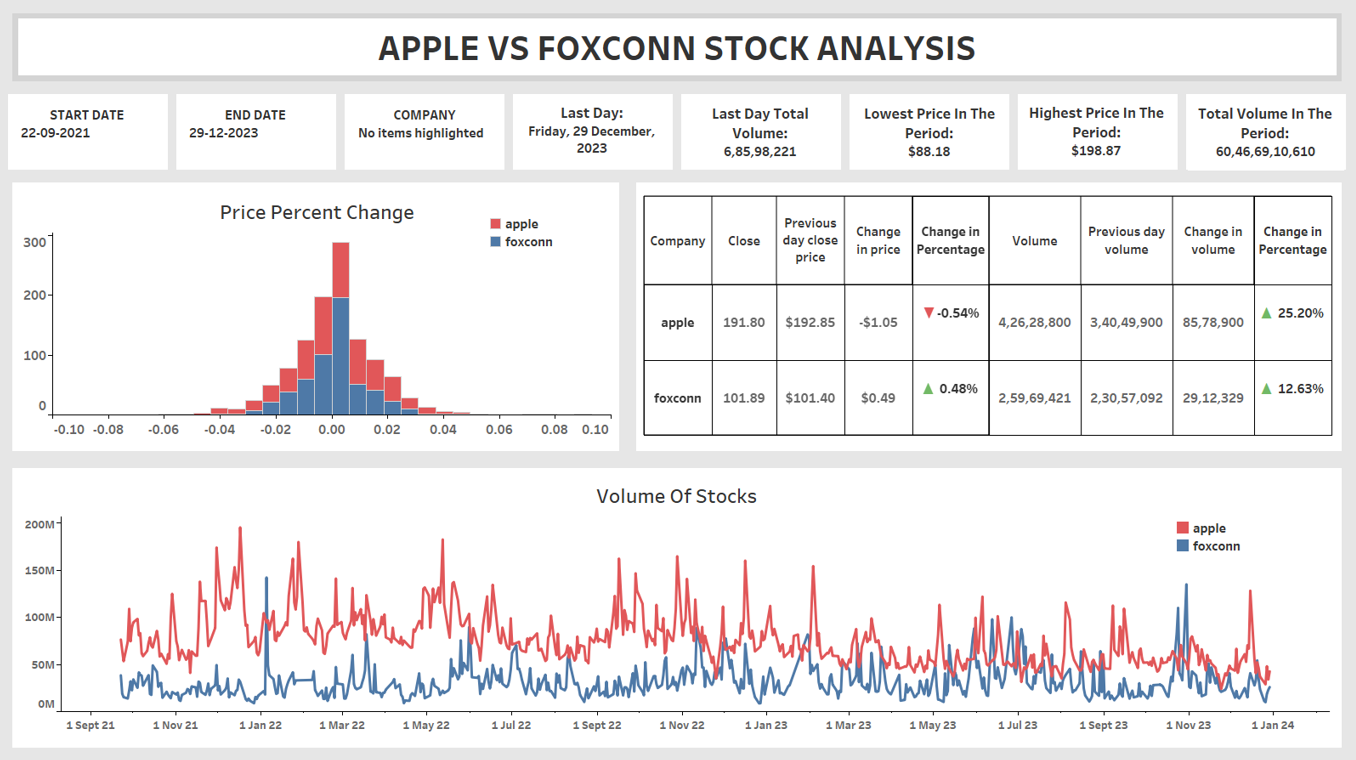

The page's visual inventory and layout, read from the dashboard file:
{"tool":"tableau","page":{"name":"Dashboard 1","canvas":[1600,900],"ordinal":0},"visuals":[{"type":"blank","box":[8,8,1584,100]},{"type":"worksheet","title":"Title","mark":"Automatic","box":[25,24,1550,66]},{"type":"image","param":"C:/Users/Manoj/Downloads/download (2).png","box":[1420,25,141,64]},{"type":"image","param":"C:/Users/Manoj/Downloads/download (1).png","box":[37,28,90,67]},{"type":"blank","box":[8,108,198,99]},{"type":"blank","box":[206,108,198,99]},{"type":"blank","box":[404,108,198,99]},{"type":"blank","box":[602,108,198,99]},{"type":"blank","box":[800,108,198,99]},{"type":"blank","box":[998,108,198,99]},{"type":"blank","box":[1196,108,198,99]},{"type":"blank","box":[1394,108,198,99]},{"type":"worksheet","title":"Total Volume In The Period","mark":"Automatic","box":[1401,114,183,88]},{"type":"worksheet","title":"Highest Price In The Period","mark":"Automatic","box":[1203,115,182,83]},{"type":"worksheet","title":"Last day","mark":"Automatic","box":[611,116,179,80]},{"type":"worksheet","title":"Lowest Price In The Period","mark":"Automatic","box":[1008,117,179,81]},{"type":"worksheet","title":"Last Day Total Volume","mark":"Automatic","box":[811,118,175,79]},{"type":"parameter","param":"[Parameters].[Parameter 1]","box":[26,126,160,83]},{"type":"parameter","param":"[Parameters].[Parameter 2]","box":[224,126,160,83]},{"type":"highlighter","title":"Volume Of Stocks ","param":"[federated.0021rkh1jq80mb10nqmr00yupw5j].[none:Table Name:nk]","box":[423,126,160,82]},{"type":"blank","box":[8,207,734,336]},{"type":"blank","box":[742,207,850,336]},{"type":"worksheet","title":"Price Percent Change","mark":"Automatic","rows":["Percent change in price"],"cols":["Percent change in price (bin)"],"box":[31,229,691,291]},{"type":"worksheet","title":"Detailed Price Table","mark":"Automatic","rows":["Table Name","Close","Previous day close price","Change in price"],"box":[761,233,407,282]},{"type":"worksheet","title":"Detailed Volume Table","mark":"Automatic","rows":["Table Name","Volume","Previous day volume","Change in volume"],"box":[1167,233,404,283]},{"type":"legend","title":"Price Percent Change","param":"[federated.0021rkh1jq80mb10nqmr00yupw5j].[none:Table Name:nk]","box":[576,255,140,64]},{"type":"blank","box":[8,543,1584,349]},{"type":"worksheet","title":"Volume Of Stocks ","mark":"Automatic","rows":["Volume"],"cols":["Date"],"box":[32,563,1535,306]},{"type":"legend","title":"Volume Of Stocks ","param":"[federated.0021rkh1jq80mb10nqmr00yupw5j].[none:Table Name:nk]","box":[1385,613,130,56]}]}

Visuals, with their boxes in screenshot pixels (x1, y1, x2, y2), scaled from the page's 1600x900 canvas onto the 1356x760 screenshot:
blank: 7, 7, 1349, 91
"Title" worksheet: 21, 20, 1335, 76
image: 1203, 21, 1323, 75
image: 31, 24, 108, 80
blank: 7, 91, 175, 175
blank: 175, 91, 342, 175
blank: 342, 91, 510, 175
blank: 510, 91, 678, 175
blank: 678, 91, 846, 175
blank: 846, 91, 1014, 175
blank: 1014, 91, 1181, 175
blank: 1181, 91, 1349, 175
"Total Volume In The Period" worksheet: 1187, 96, 1342, 171
"Highest Price In The Period" worksheet: 1020, 97, 1174, 167
"Last day" worksheet: 518, 98, 670, 166
"Lowest Price In The Period" worksheet: 854, 99, 1006, 167
"Last Day Total Volume" worksheet: 687, 100, 836, 166
parameter: 22, 106, 158, 176
parameter: 190, 106, 325, 176
"Volume Of Stocks " highlighter: 358, 106, 494, 176
blank: 7, 175, 629, 459
blank: 629, 175, 1349, 459
"Price Percent Change" worksheet: 26, 193, 612, 439
"Detailed Price Table" worksheet: 645, 197, 990, 435
"Detailed Volume Table" worksheet: 989, 197, 1331, 436
"Price Percent Change" legend: 488, 215, 607, 269
blank: 7, 459, 1349, 753
"Volume Of Stocks " worksheet: 27, 475, 1328, 734
"Volume Of Stocks " legend: 1174, 518, 1284, 565
